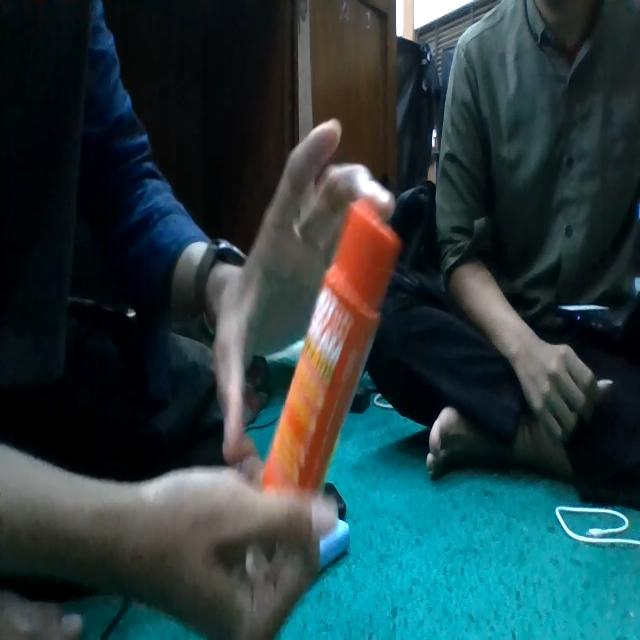Boncabe: (262, 201, 400, 492)
Powerbank: (319, 519, 350, 569)
